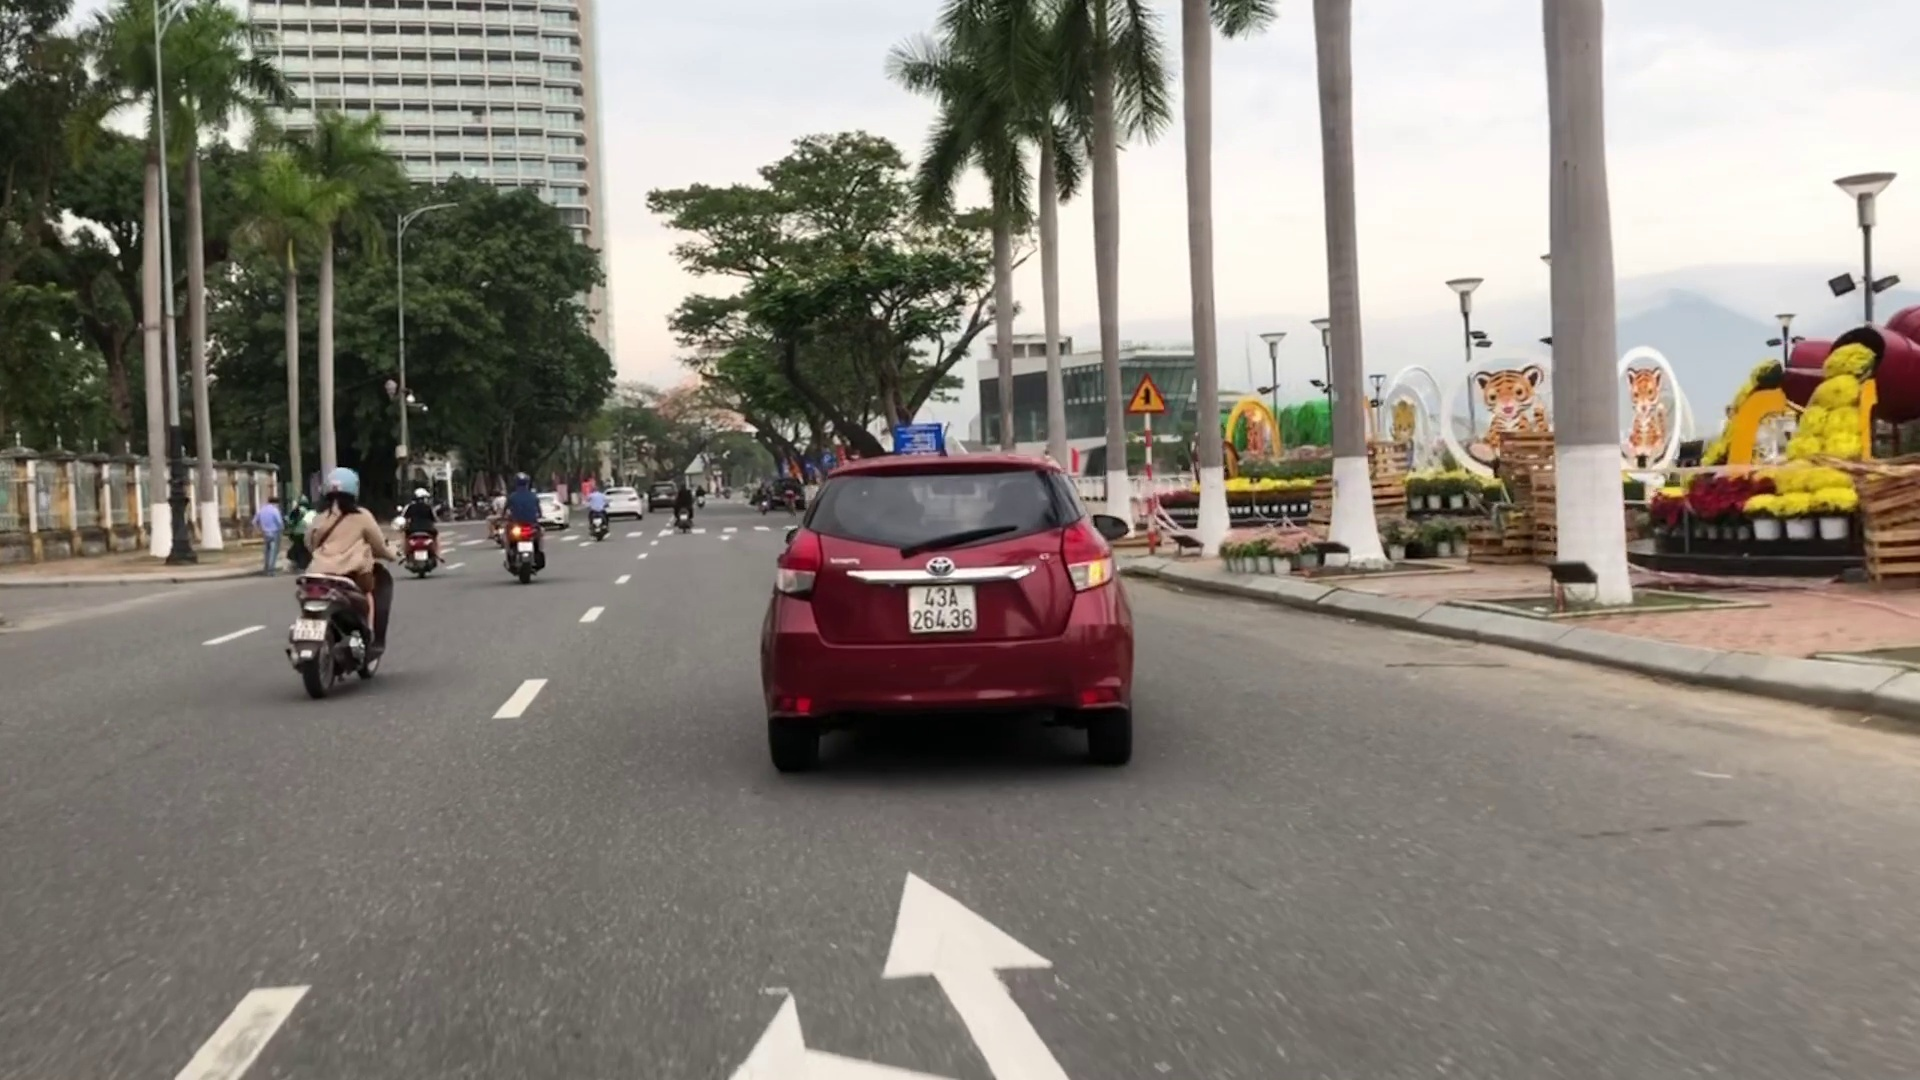Giao nhau voi duong khong uu tien: (1122, 375, 1167, 414)
